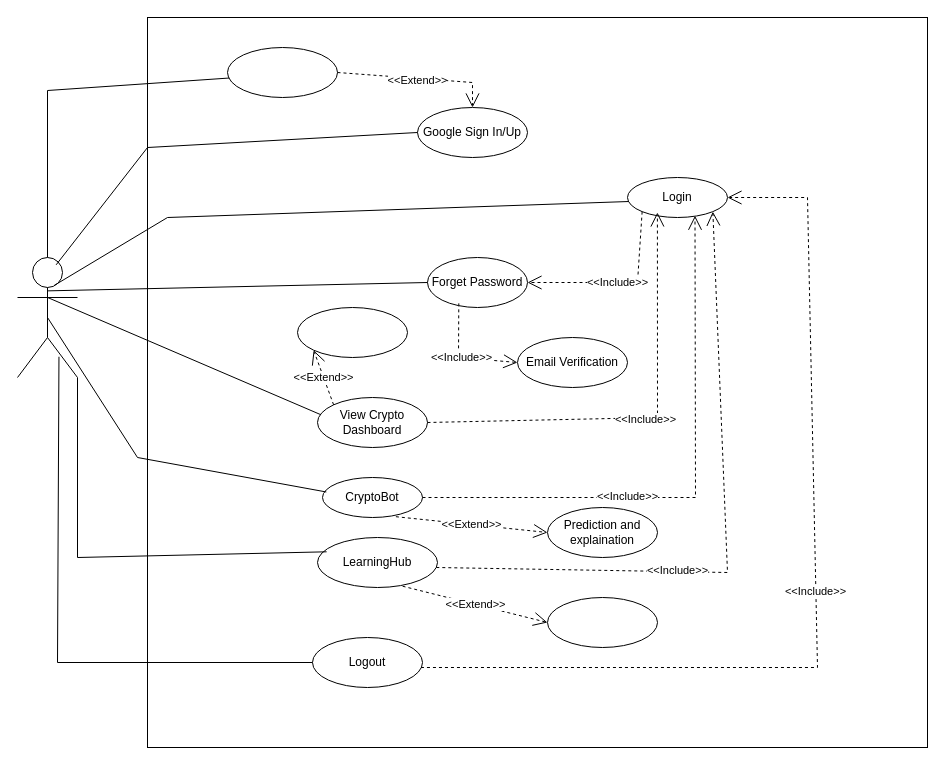
This 945x765 diagram has some shape labels left out. The shapes that lost their labels are listed below. From the top down, each one's box as (x1, y1, x2, y2) in pixels, then its label:
(226, 46, 338, 98): User Registration
(16, 256, 78, 378): End User
(296, 306, 408, 358): Search and View Charts
(546, 596, 658, 648): Books And Course Links
